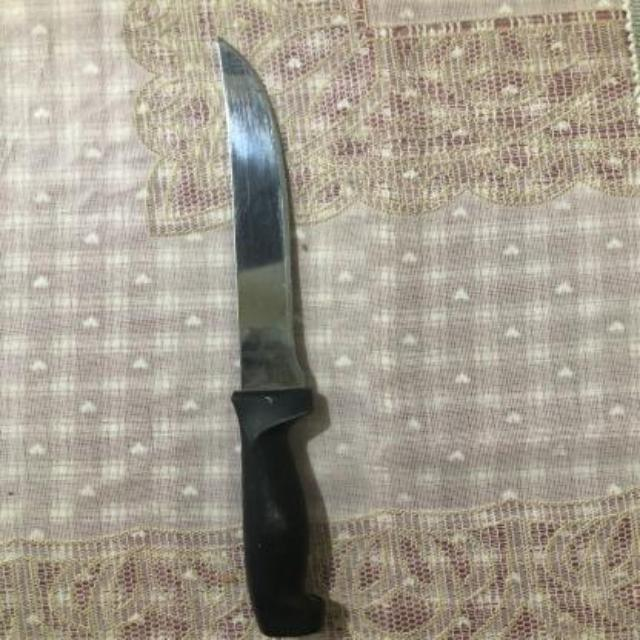Knife: (215, 36, 327, 636)
